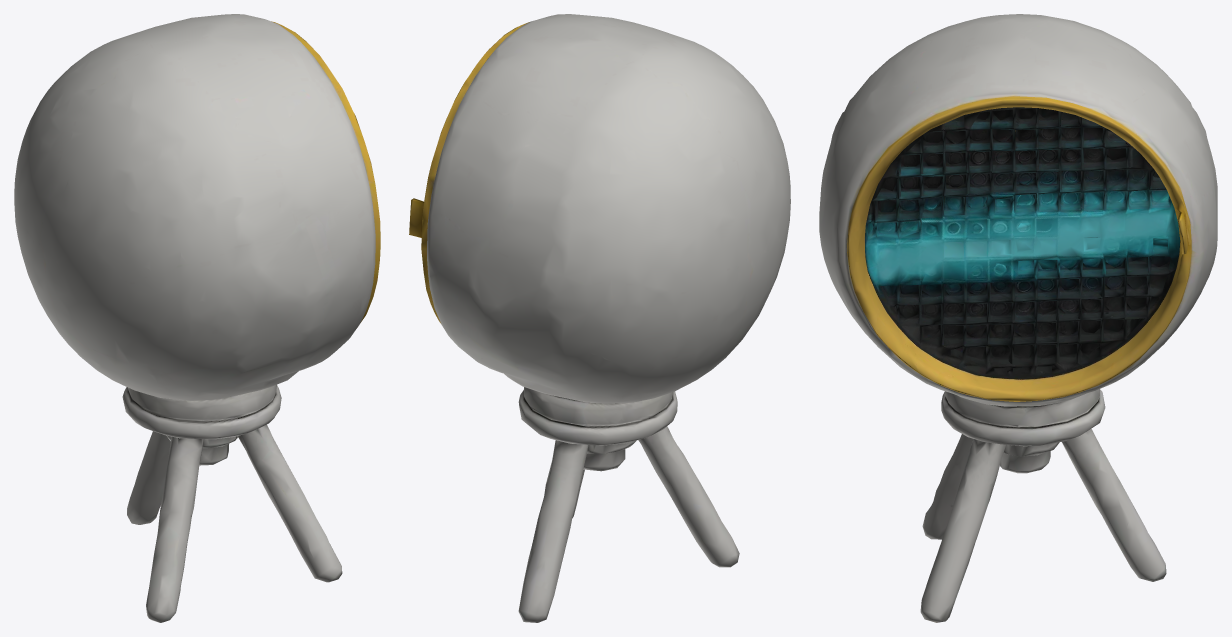
The model's file is venus_node.glb.
3 renders of one model, left to right at view 1: azimuth 30°, elevation 25°; view 2: azimuth 150°, elevation 25°; view 3: azimuth 270°, elevation 25°, orthographic. The views are drawn at different scales.
Visible parts, largest first — view 1: tripo_node_c9006ecd-8564-4eaf-ba47-82a5e4b8c8e7; view 2: tripo_node_c9006ecd-8564-4eaf-ba47-82a5e4b8c8e7; view 3: tripo_node_c9006ecd-8564-4eaf-ba47-82a5e4b8c8e7.
Boxes of the visible parts, x1,y1,x2,y2 form: tripo_node_c9006ecd-8564-4eaf-ba47-82a5e4b8c8e7: (14,14,380,622); tripo_node_c9006ecd-8564-4eaf-ba47-82a5e4b8c8e7: (409,14,790,622); tripo_node_c9006ecd-8564-4eaf-ba47-82a5e4b8c8e7: (819,14,1217,622).
Size of the model in its own units: 0.5202 by 1 by 0.6639.
1 material, 1 textured.
